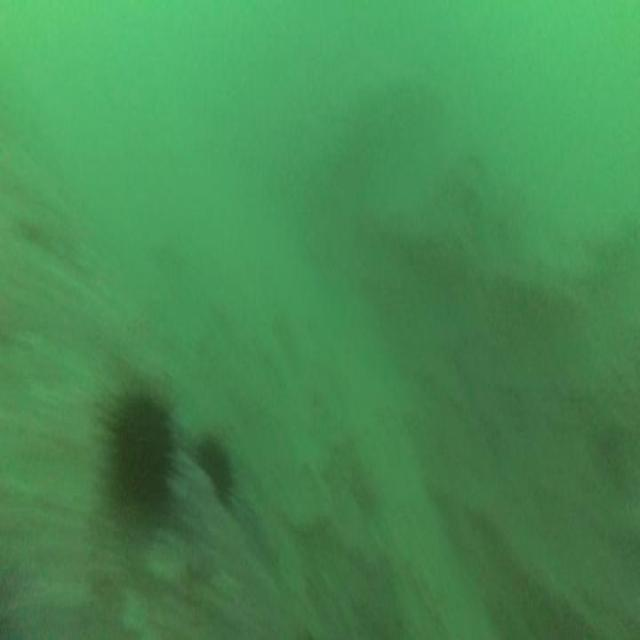echinus: (112, 392, 171, 509), (195, 434, 233, 498)
